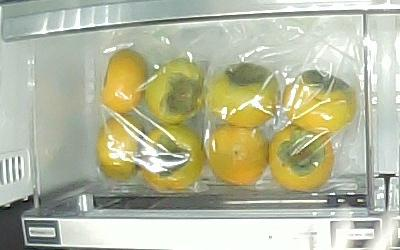persimmon_vinyl: (283, 71, 356, 134), (210, 63, 279, 128), (269, 125, 335, 192), (142, 124, 205, 191), (205, 125, 271, 185), (145, 58, 204, 124), (96, 114, 145, 182), (101, 48, 150, 116)
